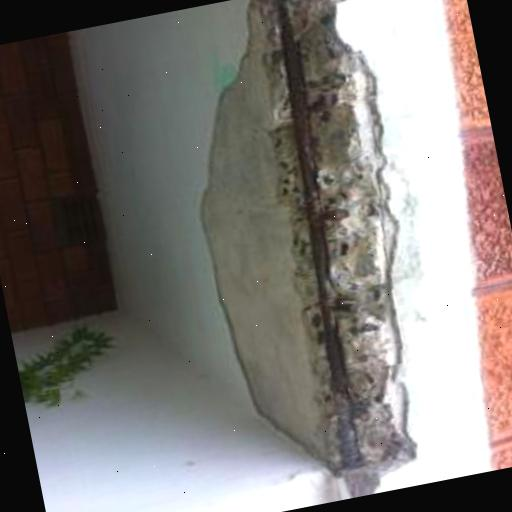spalling: (197, 0, 420, 491)
